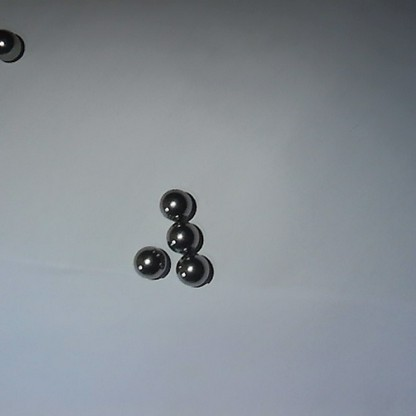ironball: (132, 239, 173, 279), (173, 252, 216, 289), (158, 185, 201, 221), (163, 219, 202, 254), (0, 24, 30, 68)
